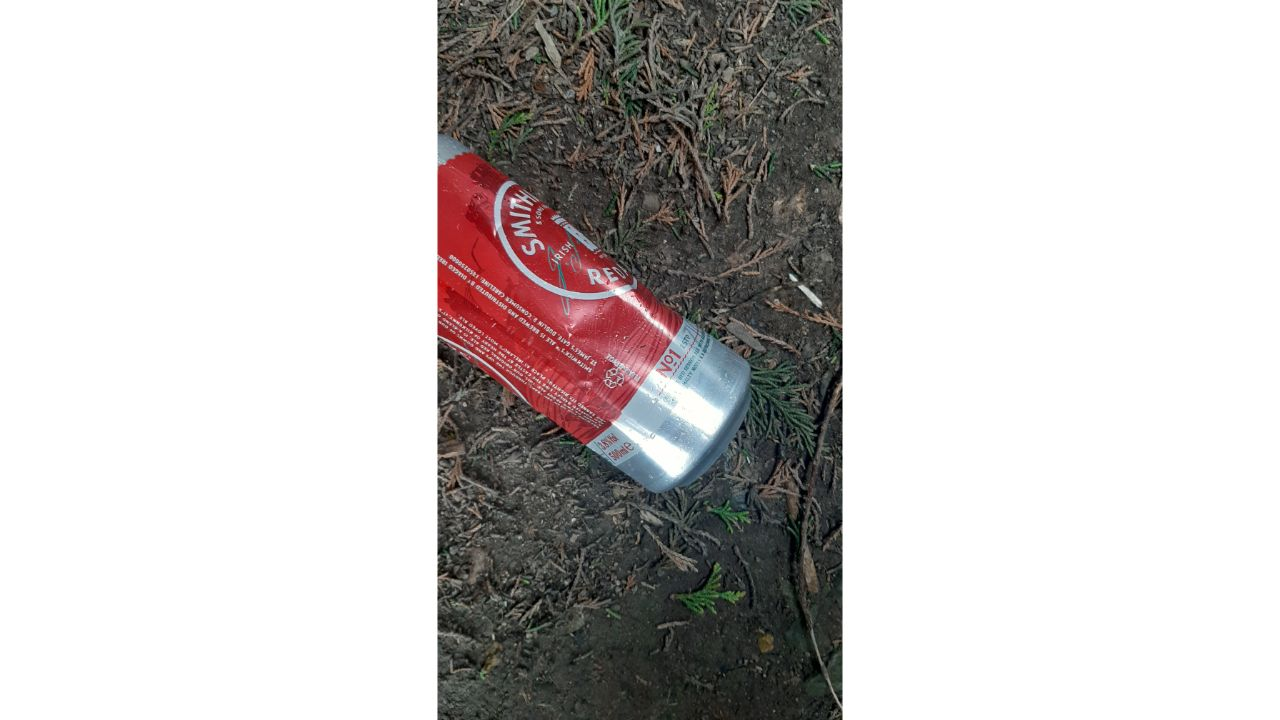Can: (434, 127, 756, 505)
